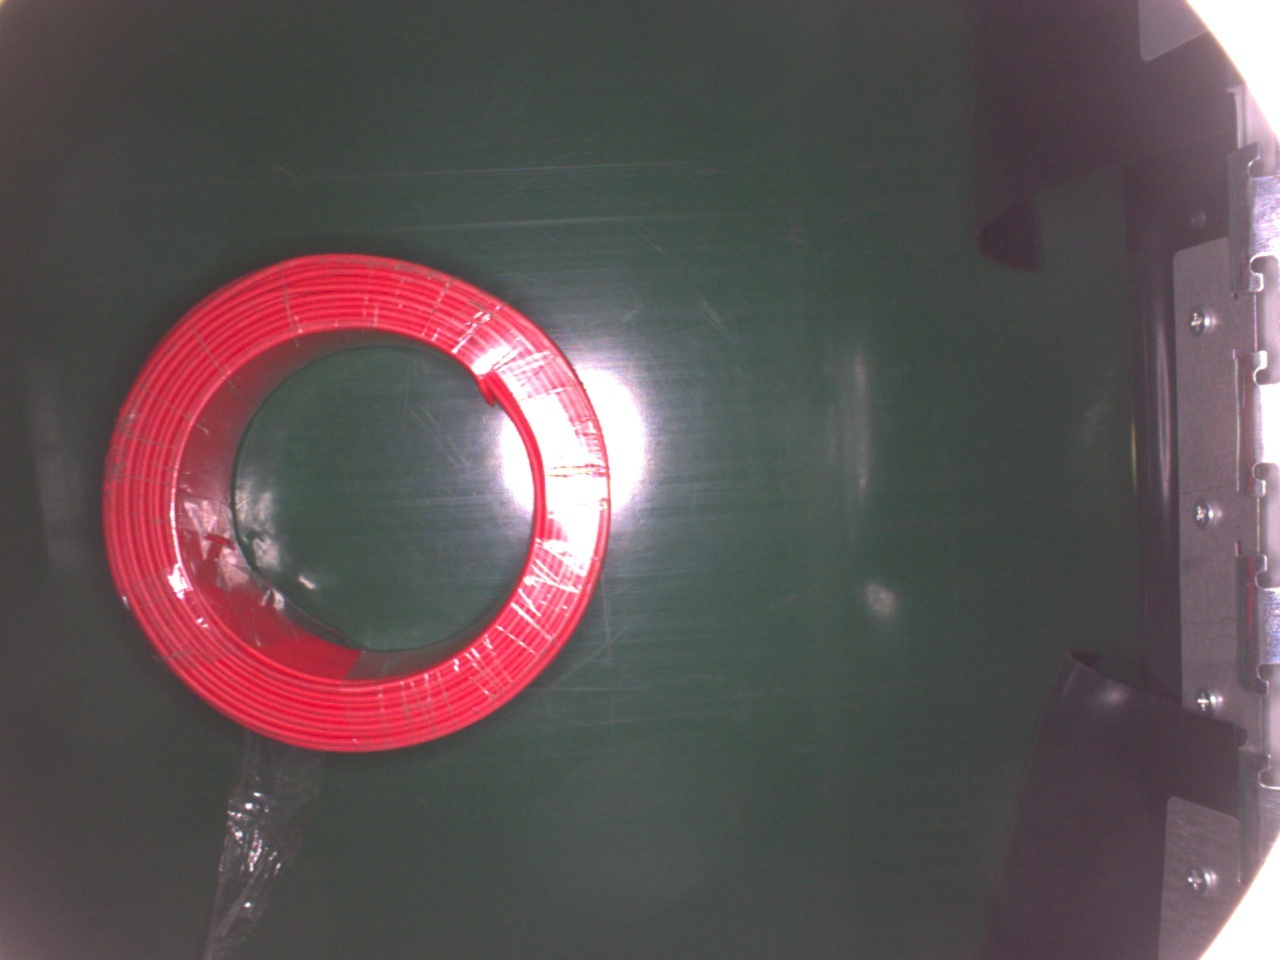red: (100, 251, 612, 754)
